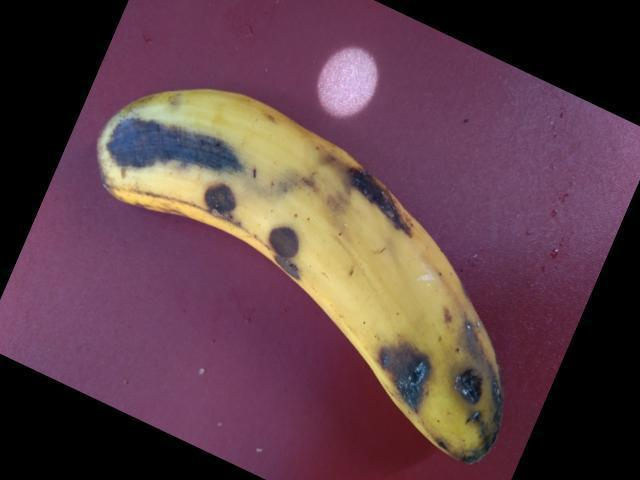overripe: (75, 66, 517, 479)
